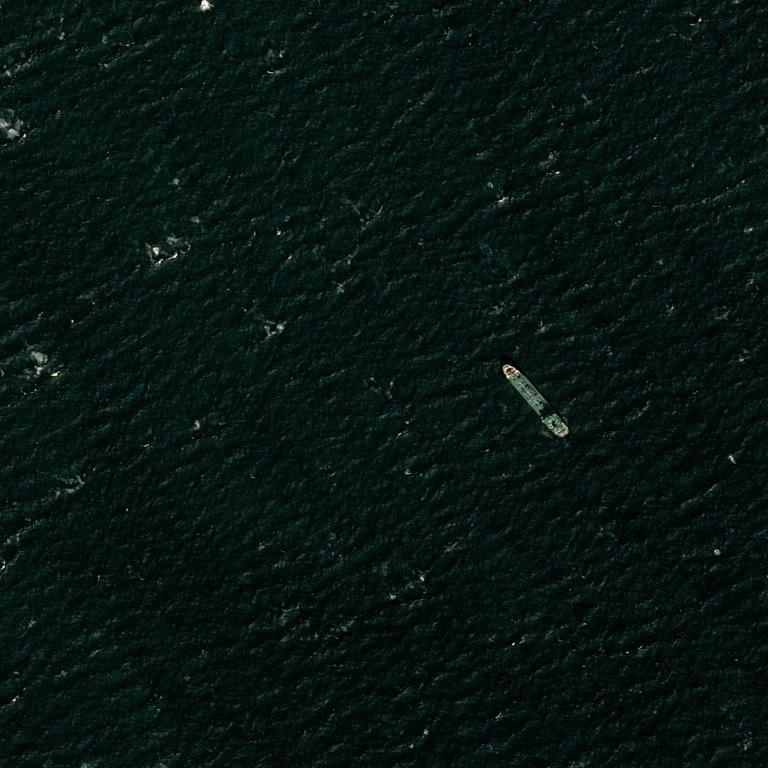ship: (534, 430, 547, 440), (500, 363, 511, 374), (542, 424, 548, 436), (534, 399, 537, 405)
